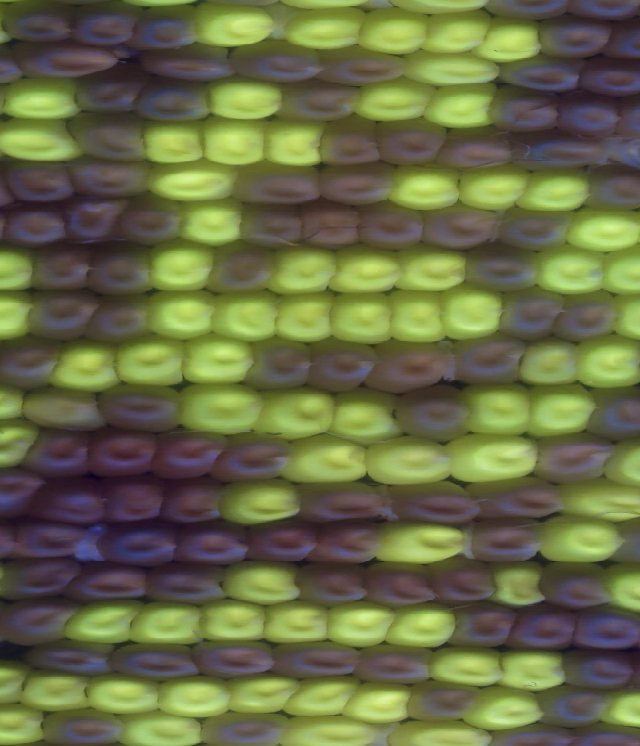fluorescent: (440, 429, 546, 491), (364, 513, 476, 571), (357, 429, 463, 490), (530, 509, 631, 573), (273, 429, 376, 490), (133, 154, 243, 210), (169, 377, 269, 438), (320, 382, 409, 448), (43, 332, 128, 399), (211, 475, 309, 533), (251, 380, 342, 442), (214, 556, 311, 614), (318, 239, 408, 300), (459, 375, 542, 441), (546, 470, 640, 528), (260, 240, 346, 303), (488, 642, 576, 702), (522, 376, 603, 441), (434, 278, 509, 348), (108, 327, 187, 393), (81, 667, 173, 723), (0, 109, 88, 167), (459, 682, 553, 736), (352, 2, 438, 61), (142, 234, 222, 297), (400, 47, 509, 93), (421, 639, 512, 694), (349, 74, 439, 129), (254, 594, 339, 652), (453, 159, 541, 215), (181, 329, 263, 389), (382, 158, 468, 215), (378, 597, 464, 654), (414, 4, 501, 60), (125, 596, 212, 652), (391, 238, 472, 298), (138, 284, 219, 344), (321, 285, 398, 348), (204, 71, 292, 126), (529, 241, 611, 300), (279, 2, 372, 54), (206, 287, 285, 348), (0, 70, 86, 125), (148, 670, 239, 721), (58, 595, 147, 647), (509, 163, 594, 217), (572, 328, 640, 395), (194, 594, 278, 648), (15, 666, 103, 717), (195, 111, 271, 170), (480, 555, 556, 614), (135, 114, 214, 170), (379, 286, 452, 346), (422, 79, 503, 133), (223, 668, 307, 720), (174, 190, 249, 248), (513, 332, 588, 390), (188, 5, 282, 51), (320, 597, 401, 650), (268, 285, 335, 348), (337, 677, 417, 729), (280, 673, 368, 719), (561, 205, 640, 255), (471, 13, 545, 66), (261, 111, 326, 171), (273, 710, 381, 746), (114, 705, 202, 746), (384, 715, 500, 746), (593, 240, 640, 299), (601, 430, 640, 501), (0, 238, 43, 301), (0, 700, 57, 746), (0, 415, 44, 473), (597, 557, 640, 616), (594, 683, 640, 735), (605, 283, 640, 345), (0, 655, 36, 710), (0, 375, 33, 429)
nonfluorescent: (385, 377, 480, 449), (94, 376, 192, 440), (463, 472, 573, 527), (365, 335, 455, 400), (523, 428, 617, 490), (7, 32, 119, 84), (384, 473, 486, 530), (269, 629, 367, 688), (453, 237, 542, 300), (143, 425, 233, 487), (230, 157, 328, 213), (180, 632, 285, 684), (105, 633, 202, 689), (0, 591, 87, 653), (0, 549, 94, 606), (165, 517, 258, 574), (60, 556, 154, 612), (208, 427, 293, 488), (301, 332, 383, 395), (91, 515, 183, 571), (62, 150, 161, 202), (314, 155, 404, 212), (239, 334, 319, 398), (461, 512, 549, 570), (227, 37, 329, 87), (18, 286, 103, 346), (19, 630, 119, 681), (368, 113, 454, 172), (292, 557, 378, 616), (24, 472, 113, 529), (396, 676, 488, 731), (534, 557, 615, 619), (84, 422, 169, 481), (501, 598, 587, 656), (62, 110, 151, 166), (422, 550, 505, 610), (131, 73, 218, 130), (485, 80, 569, 139), (311, 43, 414, 91), (19, 423, 94, 488), (306, 513, 390, 571), (83, 239, 164, 299), (294, 477, 389, 528), (241, 515, 326, 572), (124, 2, 207, 60), (443, 596, 523, 656), (548, 285, 624, 348), (446, 330, 528, 388), (347, 199, 431, 255), (534, 8, 615, 66), (436, 123, 523, 177), (363, 554, 444, 612), (493, 284, 570, 345), (144, 557, 237, 607), (205, 240, 281, 301), (270, 77, 366, 125), (232, 195, 311, 253), (558, 644, 640, 699), (0, 157, 85, 210), (94, 470, 173, 527), (508, 130, 615, 172), (418, 201, 501, 255), (65, 1, 149, 54), (109, 190, 184, 249), (495, 50, 587, 98), (144, 42, 242, 87), (563, 598, 640, 655), (353, 637, 439, 688), (493, 202, 577, 254), (155, 472, 229, 531), (317, 110, 387, 172), (71, 63, 146, 120), (296, 193, 366, 254), (4, 514, 89, 564), (82, 291, 159, 346), (59, 191, 134, 247), (25, 236, 96, 295), (582, 381, 640, 453), (35, 704, 134, 746), (0, 199, 75, 253), (535, 681, 615, 730), (196, 705, 291, 746), (556, 87, 626, 142), (0, 331, 62, 393), (0, 1, 82, 46), (579, 160, 640, 217), (573, 51, 640, 101), (0, 460, 51, 525), (475, 1, 573, 25), (598, 17, 640, 69), (607, 508, 640, 572), (562, 1, 640, 26)
